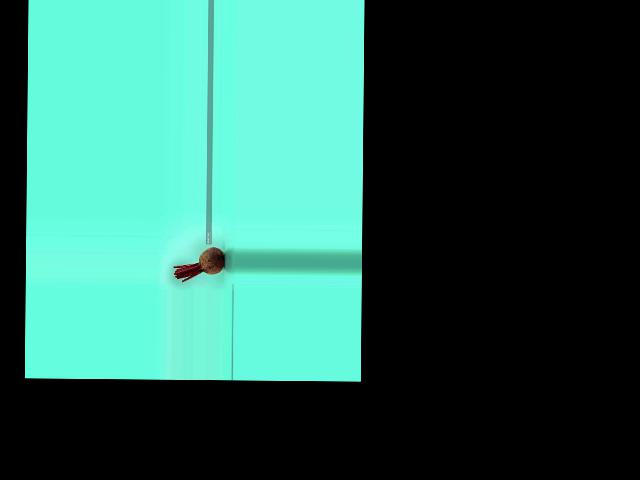beet: (173, 246, 224, 282)
